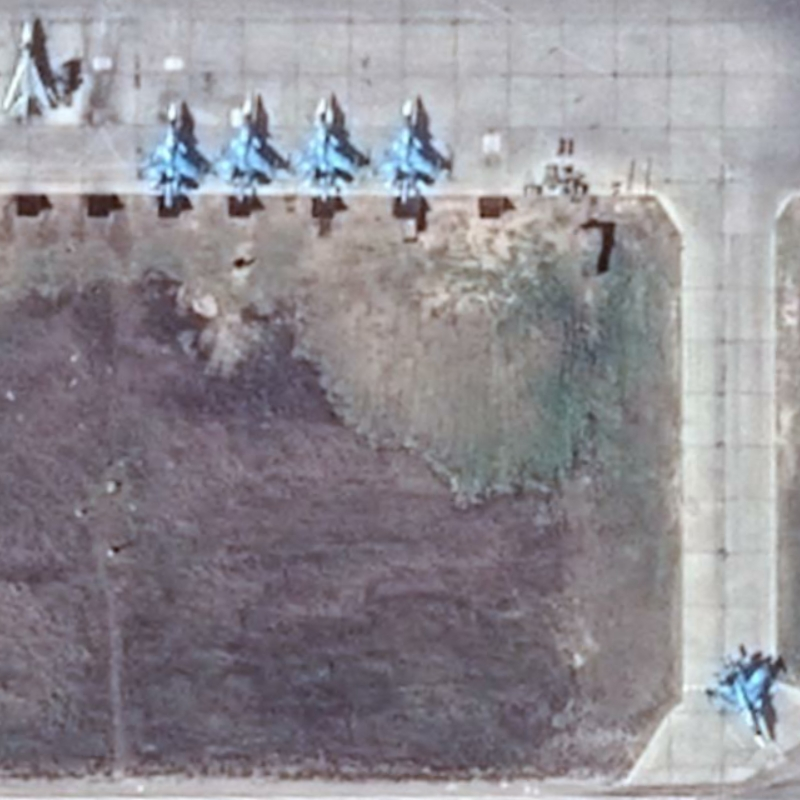A19: (365, 94, 444, 206), (212, 88, 282, 205), (134, 100, 203, 211), (295, 95, 360, 205), (713, 651, 778, 751)
A20: (1, 18, 54, 120)
